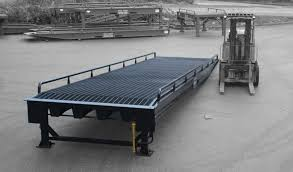Pallet Jack: (219, 11, 261, 96)
Yard Ramp: (23, 51, 218, 158)
